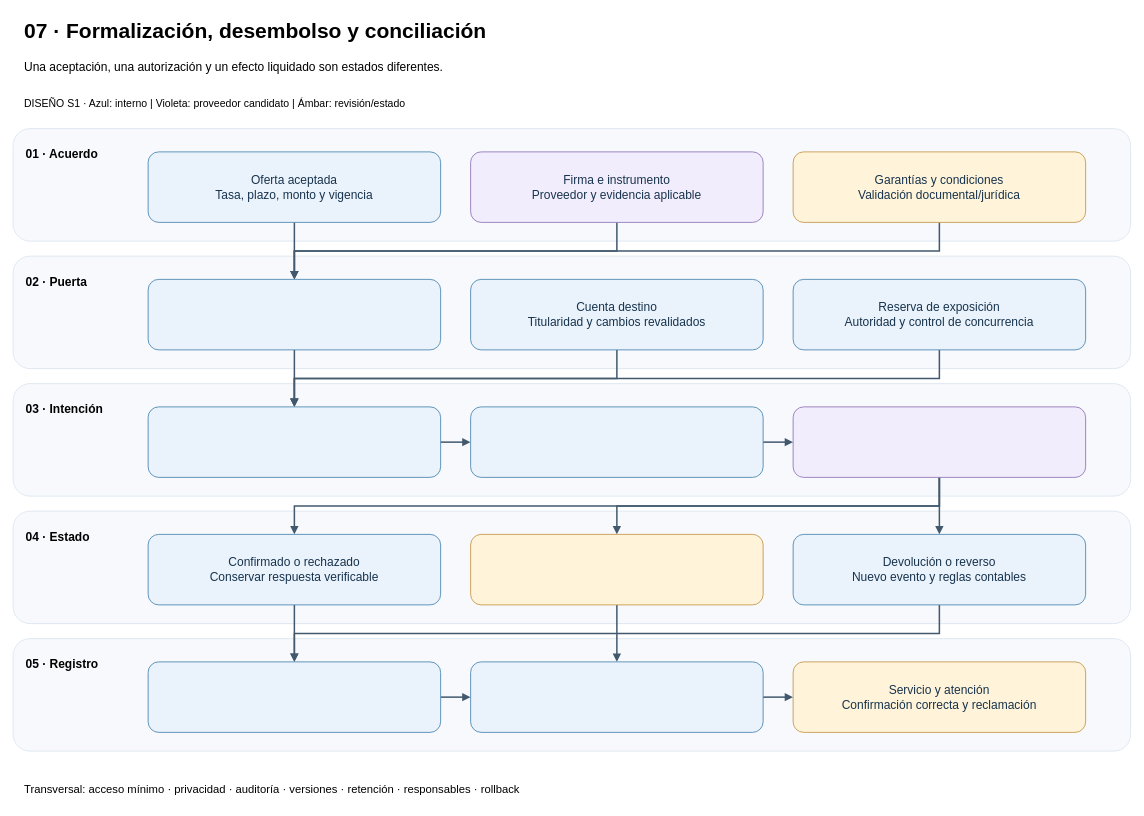
Some shapes in this 1144 by 816 pixel diagram are drawn without their labels. The shapes that lost their labels are listed below. From the top down, each one's centre as x and y in pixels, then its label:
point (294, 314): Paquete de formalización Identidad, oferta y contrato coherentes
point (294, 441): Orden autorizada Decision_id y precondiciones
point (616, 441): Idempotencia durable Clave única de la operación
point (939, 441): Proveedor / riel de pago Estado, referencia y servicio exacto
point (616, 569): Estado incierto Consultar antes de reenviar
point (294, 696): Core / ledger Obligación, asiento y fecha efectiva
point (616, 696): Conciliación Diferencias y pendientes por edad
